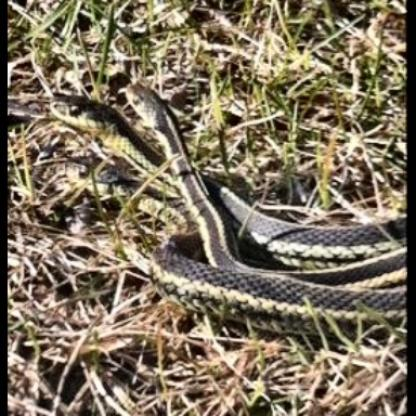Snake: (152, 184, 410, 330), (120, 78, 245, 236), (32, 85, 184, 186)
